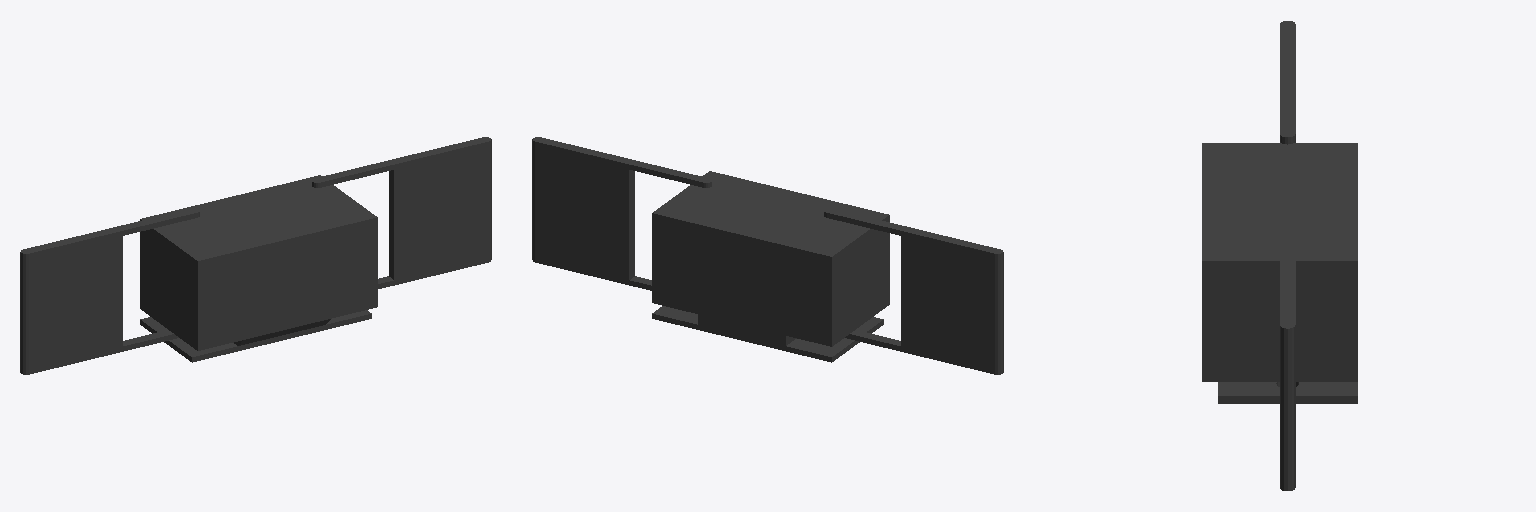
The robot description file, URDF, robot "simulation_urdf":
<?xml version="1.0" encoding="utf-8"?>
<!-- This URDF was automatically created by SolidWorks to URDF Exporter! Originally created by [author] ([email redacted])
     Commit Version: 1.5.1-0-g916b5db  Build Version: 1.5.7152.31018
     For more information, please see http://wiki.ros.org/sw_urdf_exporter -->
<robot name="simulation_urdf">
  <link name="base">
    <inertial>
      <origin
        xyz="0.027 0.0159265264136033 -0.0121054745241551"
        rpy="0 0 0" />
      <mass
        value="0.0461924870615736" />
      <inertia
        ixx="6.70628445308697E-06"
        ixy="1.26245184529807E-21"
        ixz="-7.7949350325389E-22"
        iyy="1.42241178598109E-05"
        iyz="-7.10017186254831E-08"
        izz="1.40770919658079E-05" />
    </inertial>
    <visual>
      <origin
        xyz="0 0 0"
        rpy="0 0 0" />
      <geometry>
        <mesh
          filename="../meshes/base.STL" />
      </geometry>
      <material
        name="">
        <color
          rgba="0.298039215686275 0.298039215686275 0.298039215686275 1" />
      </material>
    </visual>
    <collision>
      <origin
        xyz="0 0 0"
        rpy="0 0 0" />
      <geometry>
        <mesh
          filename="../meshes/base.STL" />
      </geometry>
    </collision>
  </link>


  <link name="right_arm">
    <inertial>
      <origin
        xyz="-0.0324088671779775 0.0187915778765065 6.93889390390723E-18"
        rpy="0 0 0" />
      <mass
        value="0.00328492067362327" />
      <inertia
        ixx="3.71433880005911E-07"
        ixy="6.21965185477677E-09"
        ixz="-5.44300541042791E-22"
        iyy="3.82355127750986E-07"
        iyz="-2.39946519733661E-22"
        izz="7.48915568874076E-07" />
    </inertial>
    <visual>
      <origin
        xyz="0 0 0"
        rpy="0 0 0" />
      <geometry>
        <mesh
          filename="../meshes/right_arm.STL" />
      </geometry>
      <material
        name="">
        <color
          rgba="0.298039215686275 0.298039215686275 0.298039215686275 1" />
      </material>
    </visual>
    <collision>
      <origin
        xyz="0 0 0"
        rpy="0 0 0" />
      <geometry>
        <mesh
          filename="../meshes/right_arm.STL" />
      </geometry>
    </collision>
  </link>
  <joint
    name="right_joint"
    type="revolute">
    <origin
      xyz="0.0058 0.0135 0"
      rpy="1.5708 0 0" />
    <parent
      link="base" />
    <child
      link="right_arm" />
    <axis
      xyz="0 1 0" />
    <limit
      lower="-1.7"
      upper="1.7"
      effort="0.04"
      velocity="3.14" />
  </joint>
  <link
    name="left_arm">
    <inertial>
      <origin
        xyz="-0.0324088671779775 0.0187915778765065 6.93889390390723E-18"
        rpy="0 0 0" />
      <mass
        value="0.00328492067362327" />
      <inertia
        ixx="3.71433880005911E-07"
        ixy="6.21965185477668E-09"
        ixz="-5.52556649185422E-22"
        iyy="3.82355127750985E-07"
        iyz="-2.93149386758955E-22"
        izz="7.48915568874075E-07" />
    </inertial>
    <visual>
      <origin
        xyz="0 0 0"
        rpy="0 0 0" />
      <geometry>
        <mesh
          filename="../meshes/right_arm.STL" />
      </geometry>
      <material
        name="">
        <color
          rgba="0.298039215686275 0.298039215686275 0.298039215686275 1" />
      </material>
    </visual>
    <collision>
      <origin
        xyz="0 0 0"
        rpy="0 0 0" />
      <geometry>
        <mesh
          filename="../meshes/right_arm.STL" />
      </geometry>
    </collision>
  </link>
  <joint
    name="left_joint"
    type="revolute">
    <origin
      xyz="0.0482 0.0135 0"
      rpy="1.5708 0 3.1415" />
    <parent
      link="base" />
    <child
      link="left_arm" />
    <axis
      xyz="0 1 0" />
    <limit
      lower="-1.7"
      upper="1.7"
      effort="0.04"
      velocity="3.14" />
  </joint>
</robot>

--- Render facts (derived) ---
3 views of the same robot in one strip: view 1: azimuth 30°, elevation 25°; view 2: azimuth 150°, elevation 25°; view 3: azimuth 270°, elevation 25° (orthographic).
Robot: simulation_urdf — 3 links, 2 joints (2 revolute); root link base; default pose: all joints at 0.
Links seen in each view (by area): view 1: base, right_arm, left_arm; view 2: base, right_arm, left_arm; view 3: base, left_arm, right_arm.
Link boxes in pixels (box(x1,y1,x2,y2)): base: box(140, 175, 377, 362); right_arm: box(20, 208, 199, 374); left_arm: box(312, 137, 491, 288); base: box(652, 171, 889, 362); right_arm: box(824, 208, 1003, 374); left_arm: box(532, 137, 711, 290); base: box(1202, 143, 1357, 403); left_arm: box(1280, 212, 1295, 490); right_arm: box(1280, 21, 1295, 144).
Bounding box of the posed robot: 0.1409 × 0.03 × 0.0362 m (x, y, z).
Meshes: 2 distinct files referenced, 3 mesh visuals loaded (2 binary STL).